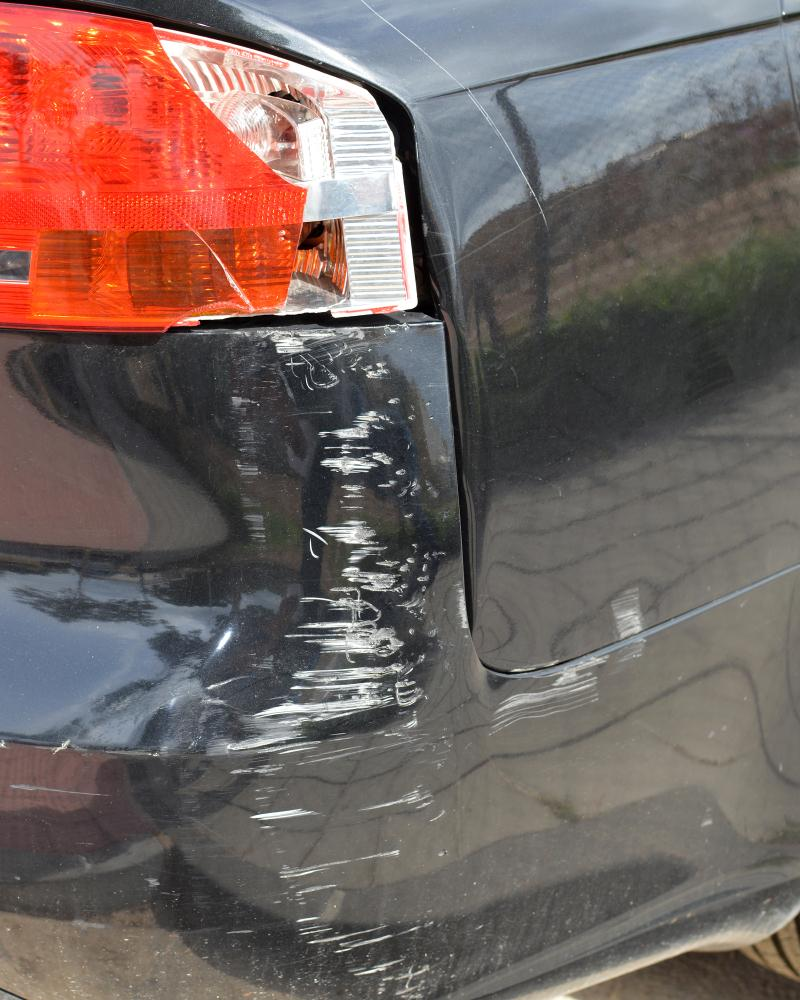lamp broken: (0, 0, 420, 332)
scratch: (226, 324, 658, 1000)
